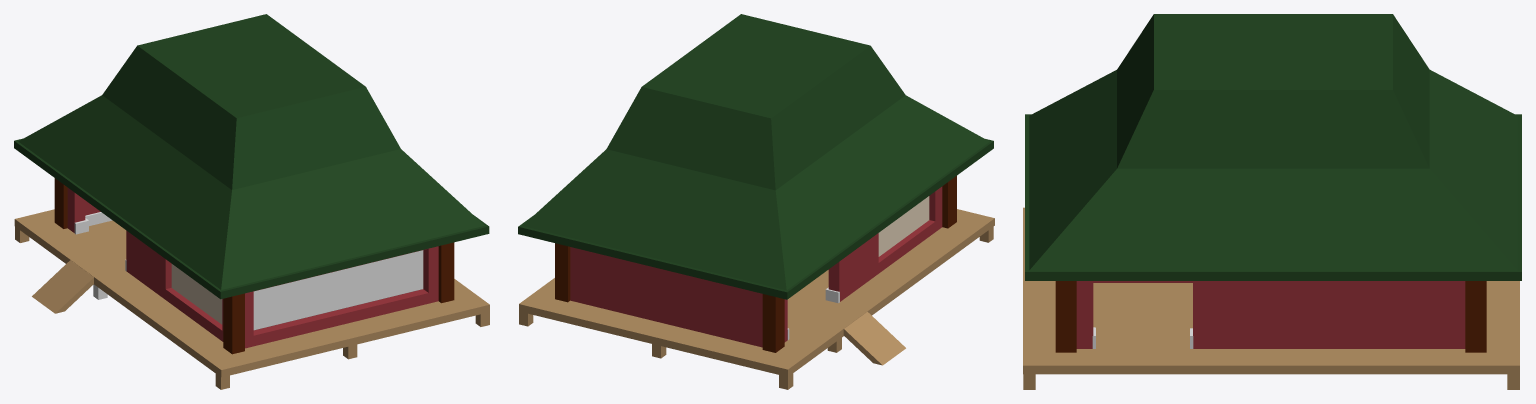
The model's file is tea-house.glb.
The picture shows the model from 3 angles, left to right: view 1: azimuth 30°, elevation 25°; view 2: azimuth 150°, elevation 25°; view 3: azimuth 270°, elevation 25°; orthographic projection. The views are drawn at different scales.
Parts seen in each view (by area): view 1: Cube.001, Cube, Plane.002, Plane.003, Plane, Plane.004, Cube.023, Cube.022, Cube.020; view 2: Cube.001, Cube, Plane.002, Plane, Plane.004, Cube.020, Cube.021, Cube.023; view 3: Cube.001, Cube, Plane.002, Cube.021, Cube.022.
Boxes of the visible parts, x1,y1,x2,y2 form: Cube.001: (14,14,489,299); Cube: (14,209,489,377); Plane.002: (67,188,438,348); Plane.003: (253,250,423,330); Plane: (32,260,93,313); Plane.004: (171,264,222,324); Cube.023: (223,293,244,354); Cube.022: (438,242,454,303); Cube.020: (54,178,67,228); Cube.001: (518,14,993,299); Cube: (519,209,994,376); Plane.002: (570,186,942,347); Plane: (843,312,905,365); Plane.004: (878,196,929,256); Cube.020: (762,294,784,352); Cube.021: (555,243,570,302); Cube.023: (942,176,956,228); Cube.001: (1025,14,1521,280); Cube: (1023,207,1519,374); Plane.002: (1076,281,1465,348); Cube.021: (1465,281,1486,352); Cube.022: (1055,281,1076,352).
Bounding box in the file's own units: 16.99 × 11.74 × 19.84.
